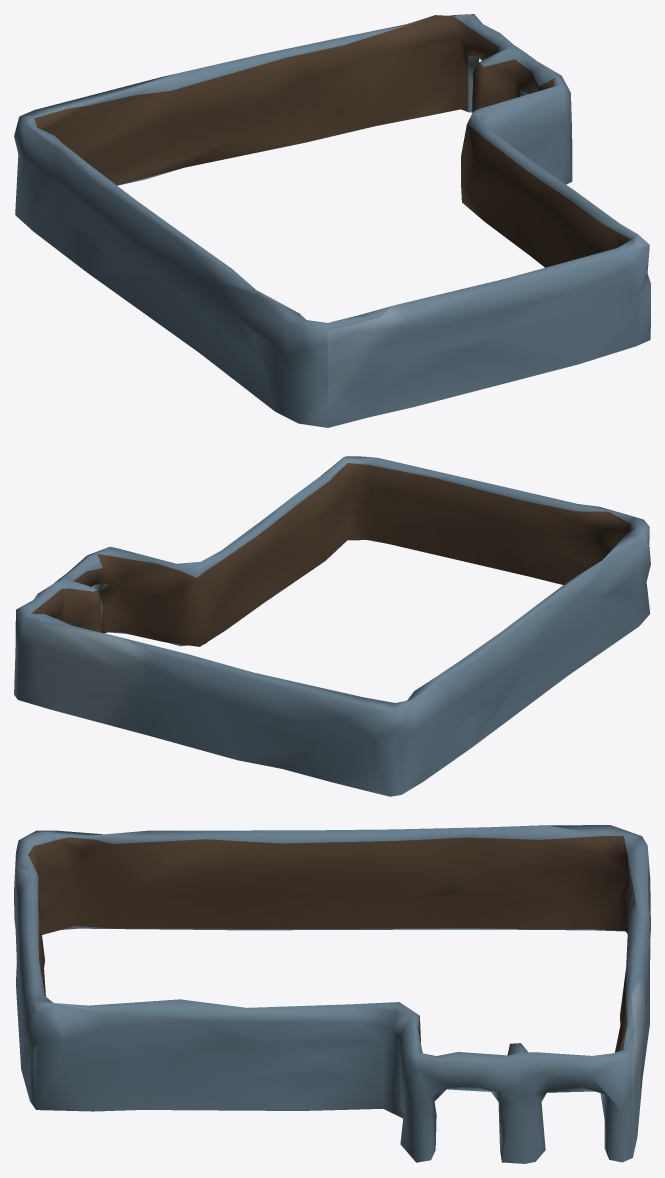
Rendered from LOOKTEST-Wall.fbx.
3 renders of one model, top to bottom at view 1: azimuth 30°, elevation 25°; view 2: azimuth 150°, elevation 25°; view 3: azimuth 270°, elevation 25°, orthographic. The views are drawn at different scales.
Parts seen in each view (by area): view 1: WAND; view 2: WAND; view 3: WAND.
Boxes of the visible parts, left/top/right/bottom form: WAND: left=14, top=14, right=650, bottom=427; WAND: left=14, top=456, right=650, bottom=796; WAND: left=14, top=825, right=650, bottom=1163.
Size of the model in its own units: 1412 by 300 by 1598.
